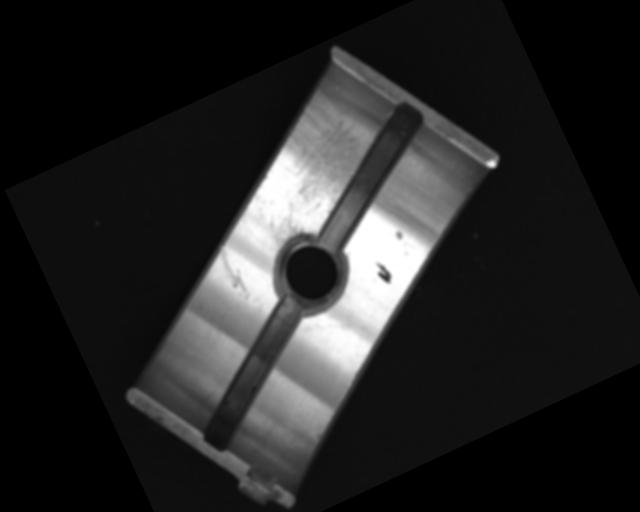blot: (371, 258, 394, 288)
bruise: (392, 226, 406, 242)
gap: (165, 292, 342, 453), (286, 99, 457, 251)
hole: (262, 223, 359, 320)
nick: (212, 241, 254, 304)
scratch: (217, 79, 389, 254)
